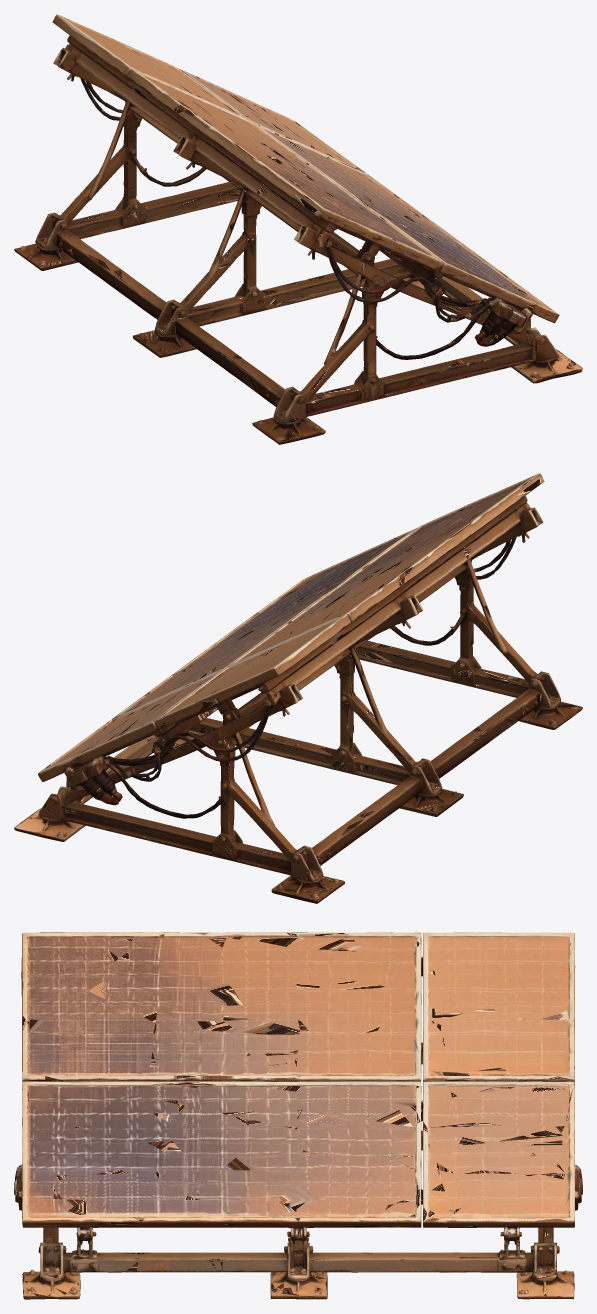
File: asset-4.glb
3 views of the same model, one above another, from view 1: azimuth 30°, elevation 25°; view 2: azimuth 150°, elevation 25°; view 3: azimuth 270°, elevation 25° (orthographic). The views are drawn at different scales.
Parts seen in each view (by area): view 1: tripo_node_6ee9fcb8-3e9a-4913-a80d-297a6ce40e39; view 2: tripo_node_6ee9fcb8-3e9a-4913-a80d-297a6ce40e39; view 3: tripo_node_6ee9fcb8-3e9a-4913-a80d-297a6ce40e39.
Boxes of the visible parts, bbox=[...] form: tripo_node_6ee9fcb8-3e9a-4913-a80d-297a6ce40e39: bbox=[14, 14, 582, 444]; tripo_node_6ee9fcb8-3e9a-4913-a80d-297a6ce40e39: bbox=[14, 473, 582, 903]; tripo_node_6ee9fcb8-3e9a-4913-a80d-297a6ce40e39: bbox=[14, 932, 582, 1299].
Size of the model in its own units: 0.6313 by 0.4512 by 0.9821.
Materials: 1 (1 with a texture image).
